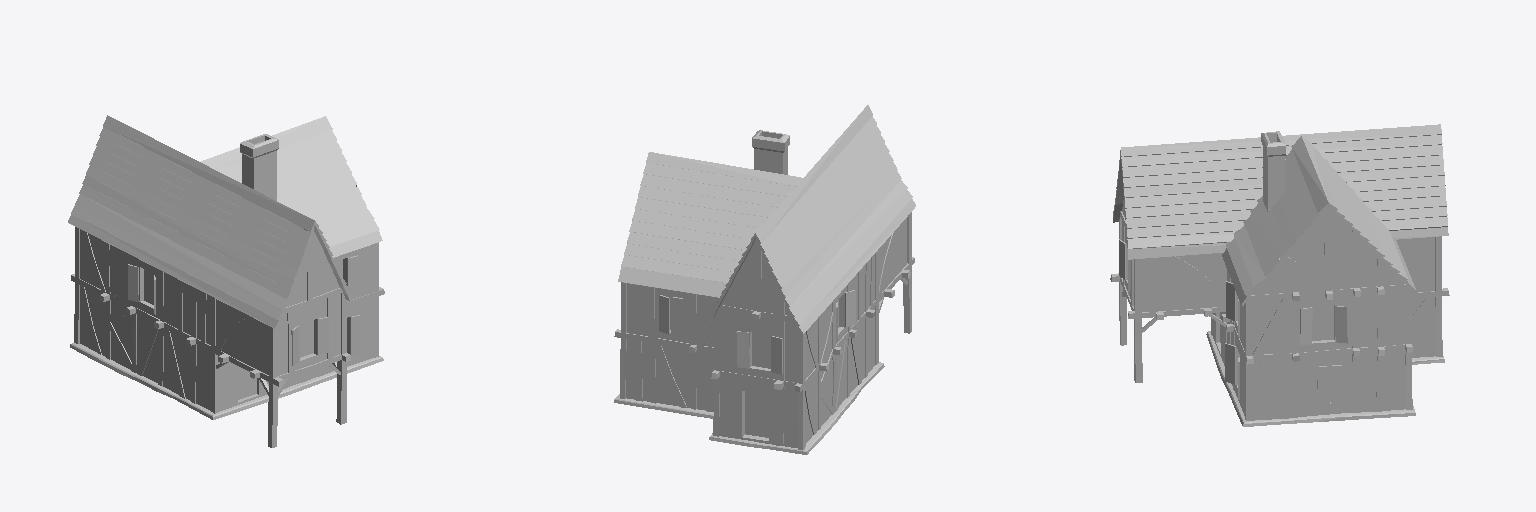
File: rumah6.obj
The picture shows the model from 3 angles: view 1: azimuth 30°, elevation 25°; view 2: azimuth 150°, elevation 25°; view 3: azimuth 270°, elevation 25°; orthographic projection.
Visible parts, largest first — view 1: Mesh_Box291; view 2: Mesh_Box291; view 3: Mesh_Box291.
Boxes of the visible parts, x1=… form: Mesh_Box291: x1=68, y1=115, x2=384, y2=447; Mesh_Box291: x1=614, y1=105, x2=915, y2=454; Mesh_Box291: x1=1110, y1=124, x2=1449, y2=426.
Size of the model in its own units: 300 by 302 by 392.